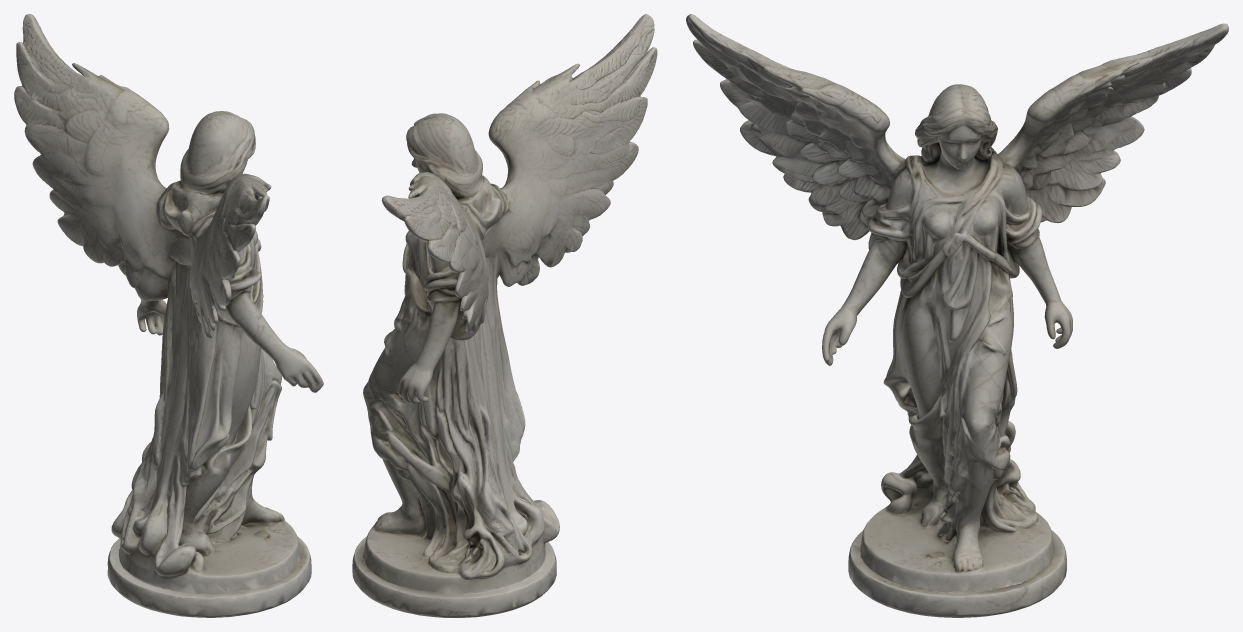
File: plaza-statue-angel.glb
3 views of the same model, side by side, from view 1: azimuth 30°, elevation 25°; view 2: azimuth 150°, elevation 25°; view 3: azimuth 270°, elevation 25° (orthographic). The views are drawn at different scales.
Parts seen in each view (by area): view 1: tripo_node_0ba73984-0d5d-443d-9d6f-84d8ffec0c43; view 2: tripo_node_0ba73984-0d5d-443d-9d6f-84d8ffec0c43; view 3: tripo_node_0ba73984-0d5d-443d-9d6f-84d8ffec0c43.
Part boxes in pixels (x1=…): tripo_node_0ba73984-0d5d-443d-9d6f-84d8ffec0c43: x1=14, y1=14, x2=323, y2=617; tripo_node_0ba73984-0d5d-443d-9d6f-84d8ffec0c43: x1=352, y1=14, x2=657, y2=617; tripo_node_0ba73984-0d5d-443d-9d6f-84d8ffec0c43: x1=686, y1=14, x2=1228, y2=617.
Bounding box in the file's own units: 1.94 × 5 × 4.7.
1 material, 1 textured.
